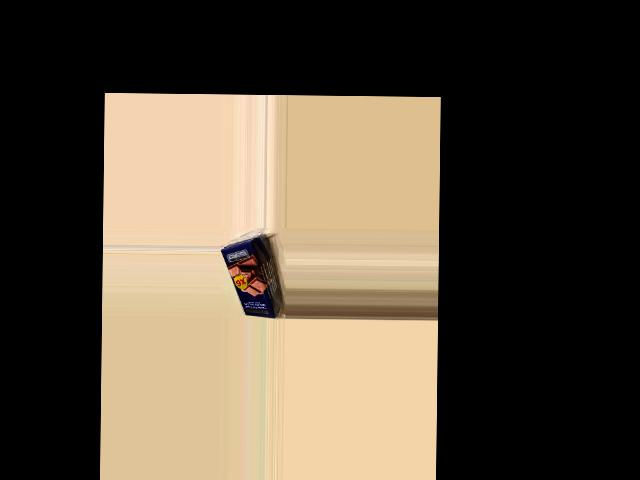chocolate: (219, 239, 281, 318)
